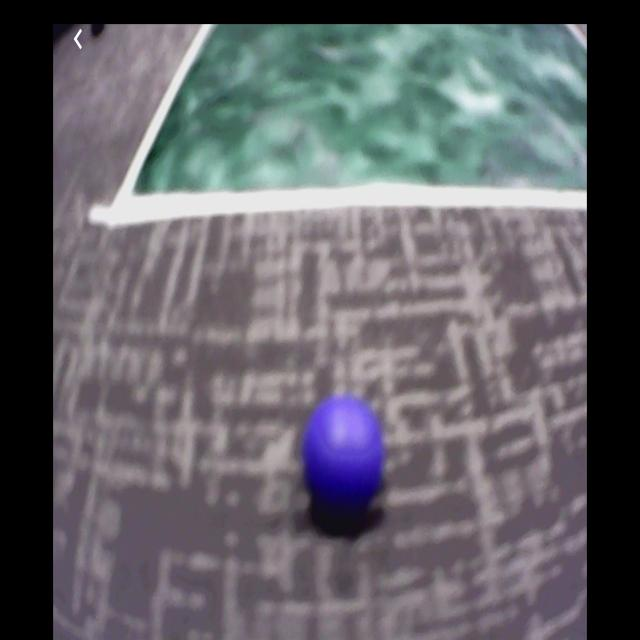ball: (305, 395, 384, 514)
